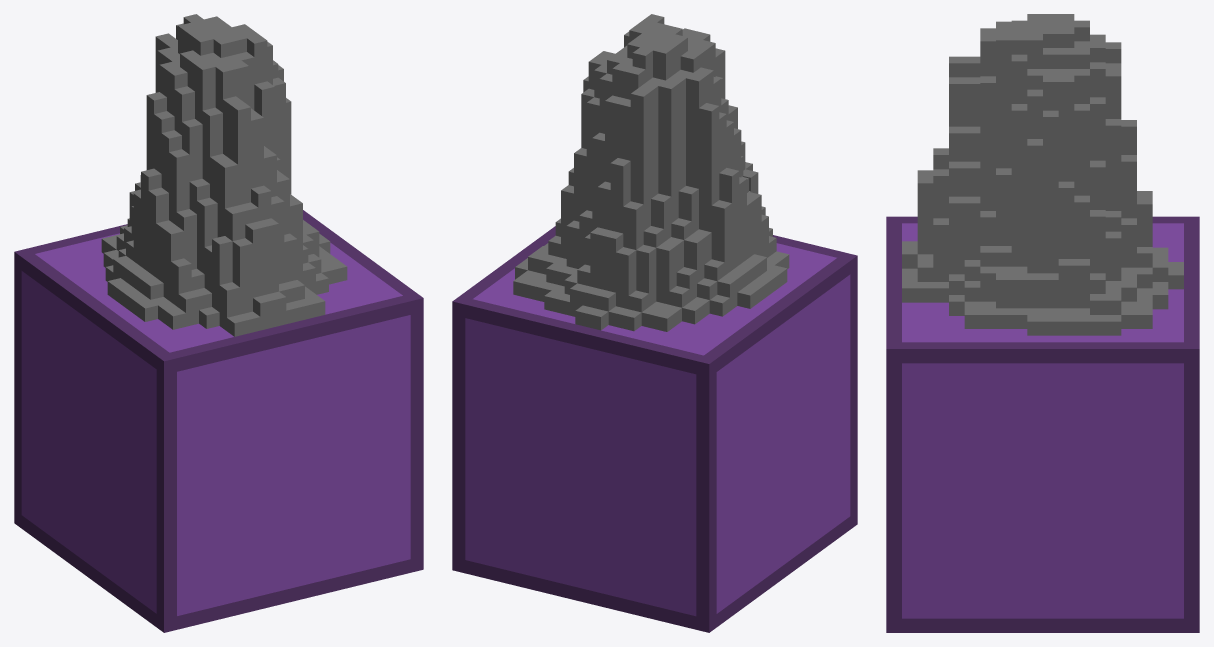
File: rock2.obj
3 renders of one model, left to right at view 1: azimuth 30°, elevation 25°; view 2: azimuth 150°, elevation 25°; view 3: azimuth 270°, elevation 25°, orthographic. The views are drawn at different scales.
Size of the model in its own units: 2 by 3.8 by 2.
1 material, 1 textured.
